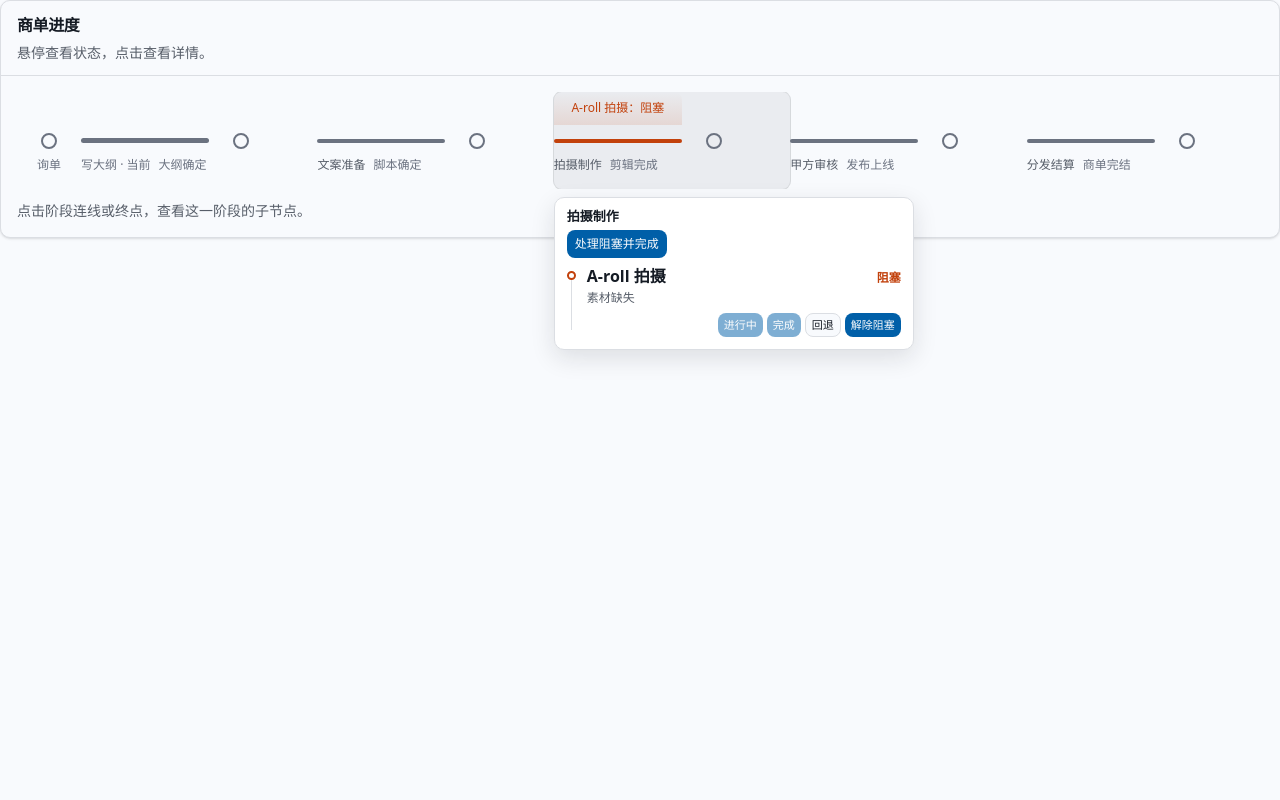
stage tooltip node actions › 解除阻塞 on a blocked node POSTs the unblock endpoint and refreshes the row
Expected: the button with test id "tooltip-node-start-a_roll" is disabled, x1=718 y1=313 x2=763 y2=337
Expected: the button with test id "tooltip-node-complete-a_roll" is disabled, x1=767 y1=313 x2=801 y2=337
Click the button with test id "tooltip-node-unblock-a_roll".
click(873, 325)  # box x1=845 y1=313 x2=901 y2=337
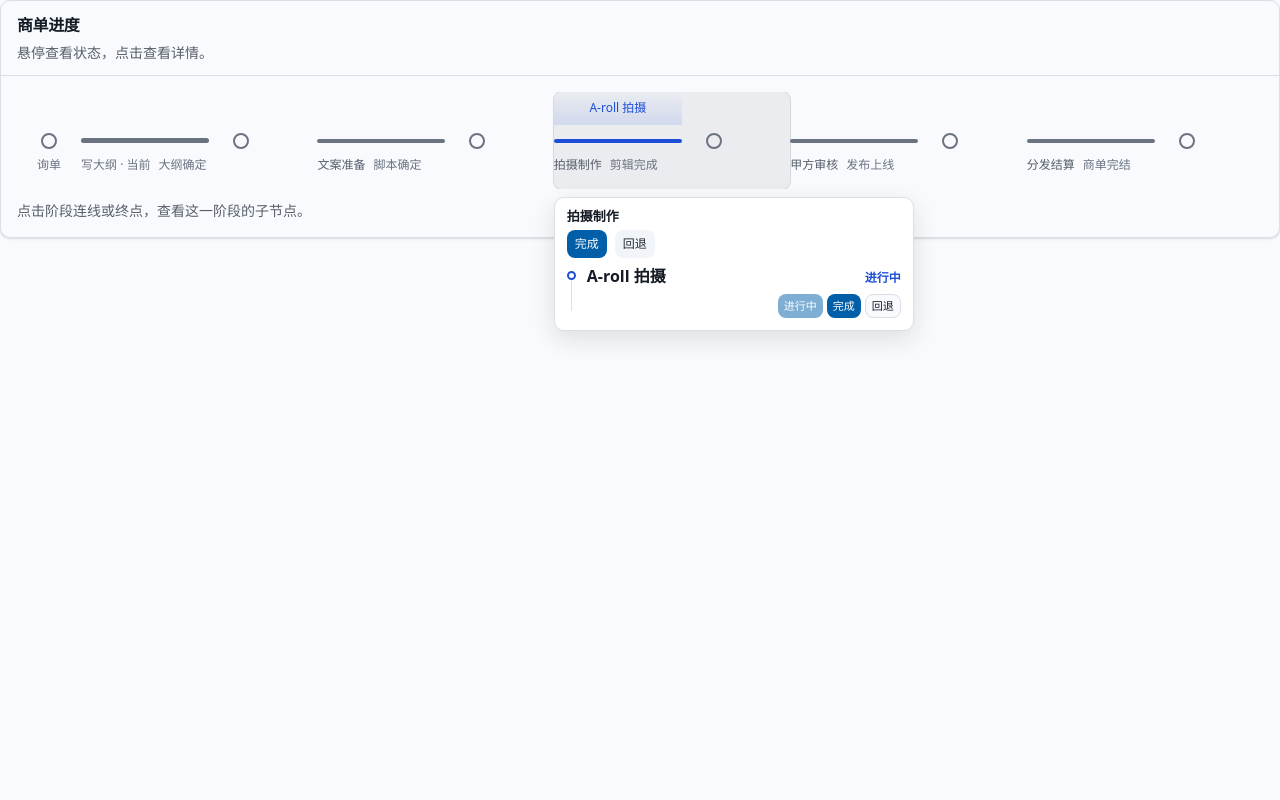
Expected: the button with test id "tooltip-node-start-a_roll" is disabled, x1=778 y1=294 x2=823 y2=318
Result: the button with test id "tooltip-node-complete-a_roll" is enabled at x1=827 y1=294 x2=861 y2=318
